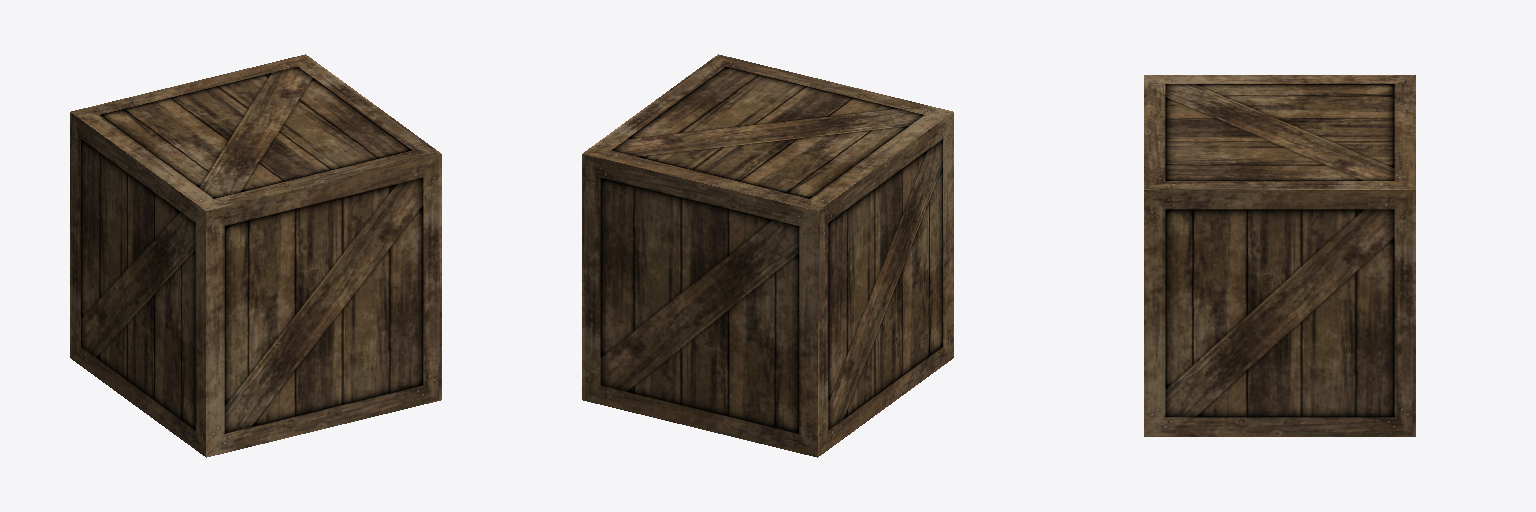
3 renders of one model, left to right at view 1: azimuth 30°, elevation 25°; view 2: azimuth 150°, elevation 25°; view 3: azimuth 270°, elevation 25°, orthographic.
Visible parts, largest first — view 1: Cube; view 2: Cube; view 3: Cube.
Part boxes in pixels (x1,y1,x2,y2): Cube: (70, 54, 441, 457); Cube: (582, 54, 953, 457); Cube: (1144, 75, 1415, 436).
Bounding box in the file's own units: 2 × 2 × 2.
1 materials, 1 textured.